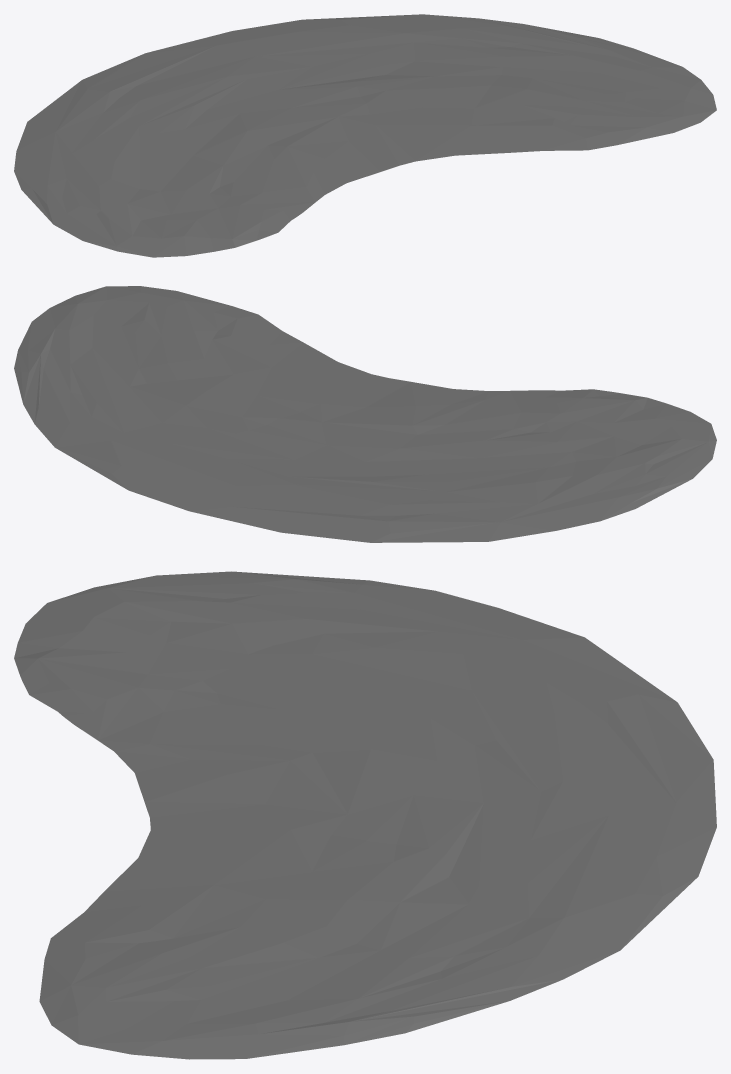
The model's file is SM_Gen_Env_Ground_Grass_Large_02.glb.
3 renders of one model, top to bottom at view 1: azimuth 30°, elevation 25°; view 2: azimuth 150°, elevation 25°; view 3: azimuth 270°, elevation 25°, orthographic. The views are drawn at different scales.
Parts seen in each view (by area): view 1: SM_Gen_Env_Ground_Grass_Large_02; view 2: SM_Gen_Env_Ground_Grass_Large_02; view 3: SM_Gen_Env_Ground_Grass_Large_02.
Boxes of the visible parts, <box> form: SM_Gen_Env_Ground_Grass_Large_02: <box>14,14,716,257</box>; SM_Gen_Env_Ground_Grass_Large_02: <box>14,286,716,542</box>; SM_Gen_Env_Ground_Grass_Large_02: <box>14,571,716,1059</box>.
Bounding box in the file's own units: 22.44 × 0.1292 × 13.66.
1 material, 1 textured.
